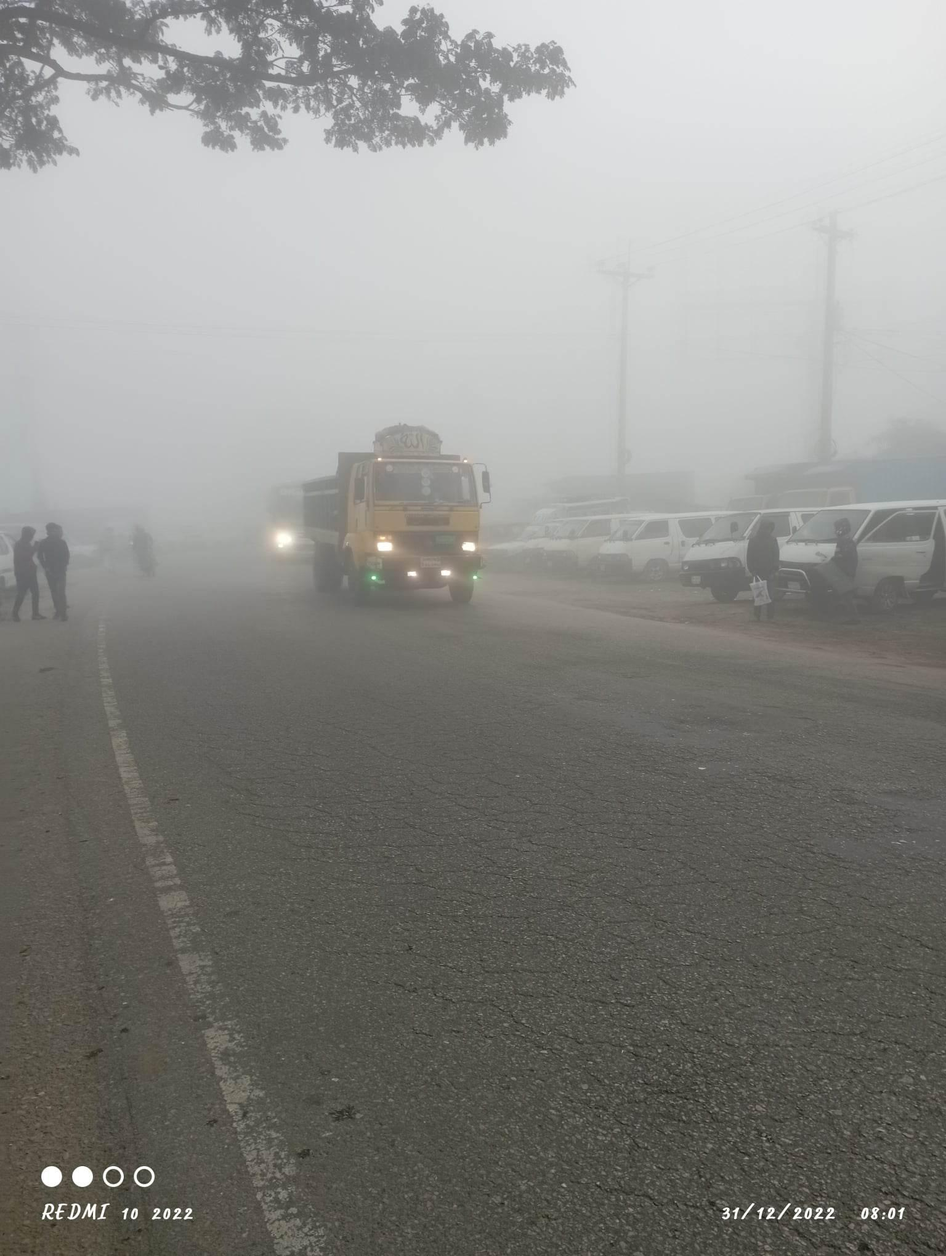Car: (766, 496, 946, 621), (594, 498, 729, 584)
Truck: (292, 412, 504, 625)
